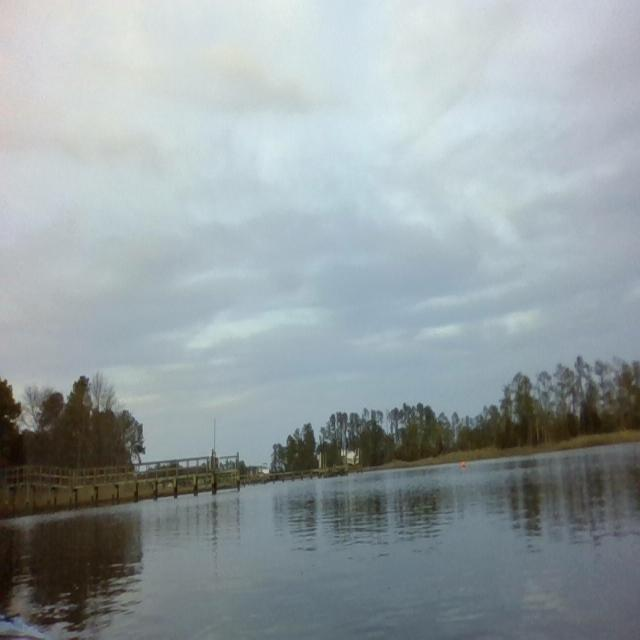Buoy: (460, 458, 467, 469)
